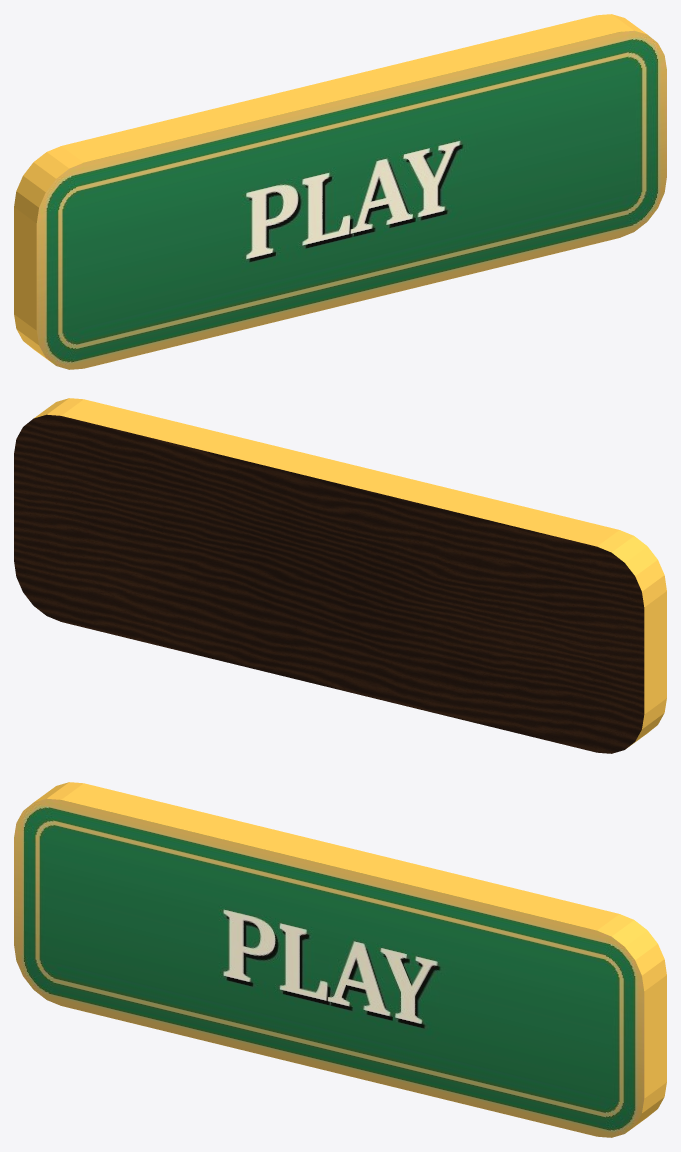
The model's file is lb4_btn_play.glb.
3 views of the same model, one above another, from view 1: azimuth 30°, elevation 25°; view 2: azimuth 150°, elevation 25°; view 3: azimuth 330°, elevation 25° (orthographic).
Parts seen in each view (by area): view 1: lb4_btn_play; view 2: lb4_btn_play; view 3: lb4_btn_play.
Boxes of the visible parts, x1,y1,x2,y2 form: lb4_btn_play: (14,14,666,369); lb4_btn_play: (14,398,666,753); lb4_btn_play: (14,782,666,1137).
Bounding box in the file's own units: 0.8 × 0.25 × 0.05.
3 materials, 2 textured.
